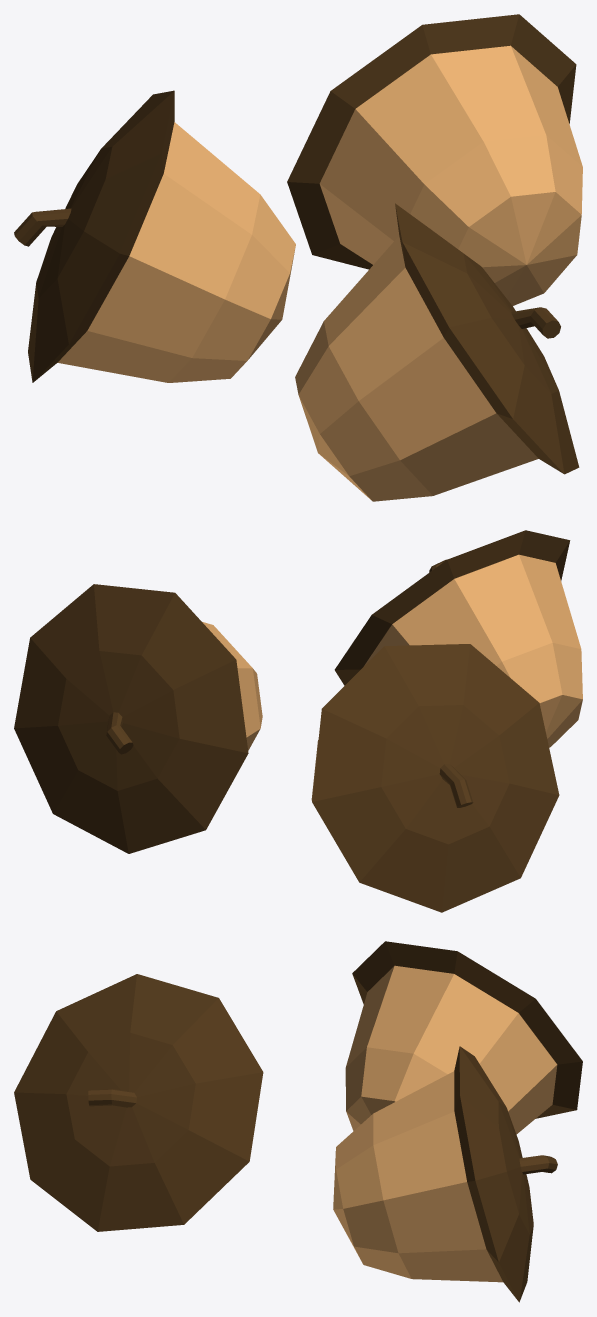
File: Acorns.fbx
3 views of the same model, one above another, from view 1: azimuth 30°, elevation 25°; view 2: azimuth 150°, elevation 25°; view 3: azimuth 270°, elevation 25° (orthographic). The views are drawn at different scales.
Visible parts, largest first — view 1: Acorns; view 2: Acorns; view 3: Acorns.
Part boxes in pixels (x1=…): Acorns: x1=14, y1=14, x2=582, y2=501; Acorns: x1=14, y1=530, x2=582, y2=912; Acorns: x1=14, y1=941, x2=582, y2=1302.
Bounding box in the file's own units: 136 × 64.97 × 144.
